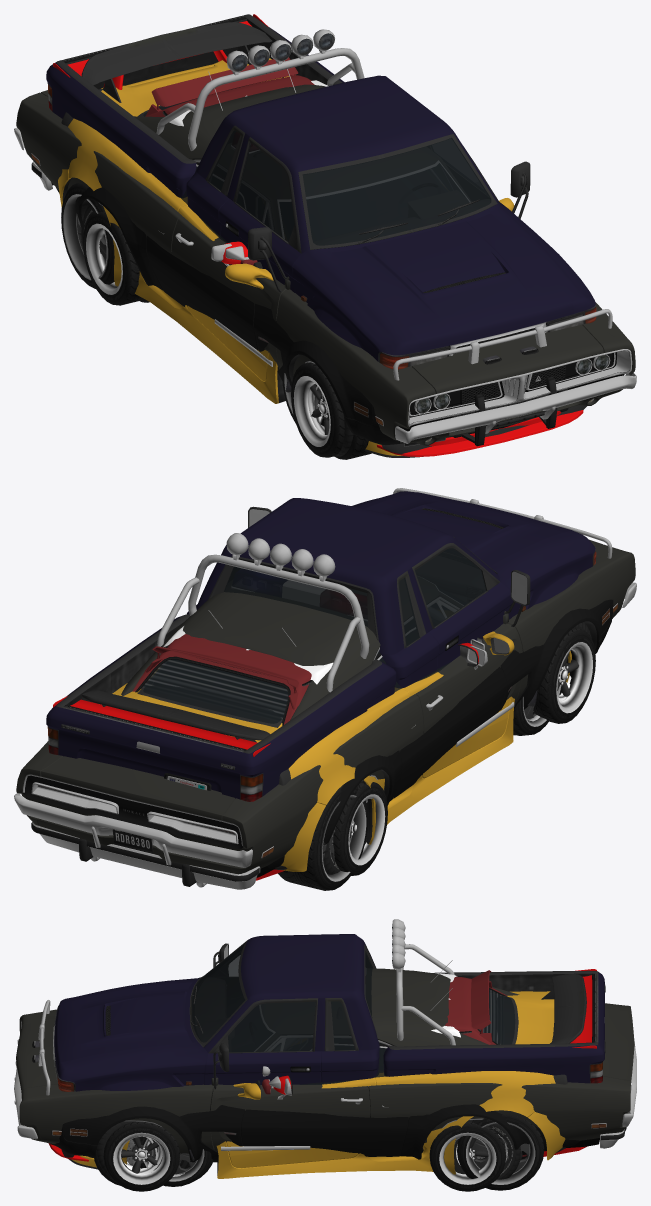
File: cars.glb
The picture shows the model from 3 angles, top to bottom: view 1: azimuth 30°, elevation 25°; view 2: azimuth 150°, elevation 25°; view 3: azimuth 270°, elevation 25°; orthographic projection. The views are drawn at different scales.
Parts seen in each view (by area): view 1: lightbody_body_3, duke_body_1, lightbody_body_4, lightbody_body_2, saba_body_3, phoenix_body_2, duke_body_3, duke_body_2, saba_body_4, asti_body_1, phoenix_wheel_fr, phoenix_wheel_br (+6 smaller); view 2: lightbody_body_3, duke_body_1, lightbody_body_4, saba_body_3, duke_body_3, phoenix_body_2, lightbody_body_2, asti_body_4, saba_body_2, cop_body_1, saba_body_4, asti_body_1 (+11 smaller); view 3: lightbody_body_3, duke_body_1, phoenix_body_2, saba_body_3, lightbody_body_4, lightbody_body_2, phoenix_wheel_fl, saba_body_4, phoenix_wheel_bl, saba_wheel_bl, asti_body_1, lightbody_body_5 (+11 smaller).
Part boxes in pixels (x1,y1,x2,y2): lightbody_body_3: [46, 27, 595, 361]; duke_body_1: [16, 77, 635, 445]; lightbody_body_4: [47, 14, 612, 392]; lightbody_body_2: [48, 84, 596, 369]; saba_body_3: [58, 58, 514, 455]; phoenix_body_2: [75, 162, 524, 445]; duke_body_3: [14, 128, 636, 443]; duke_body_2: [215, 164, 461, 240]; saba_body_4: [61, 22, 423, 457]; asti_body_1: [145, 57, 314, 265]; phoenix_wheel_fr: [291, 362, 344, 457]; phoenix_wheel_br: [83, 212, 144, 305]; lightbody_body_3: [46, 491, 595, 799]; duke_body_1: [16, 539, 635, 874]; lightbody_body_4: [47, 488, 612, 799]; saba_body_3: [112, 631, 571, 871]; duke_body_3: [14, 582, 636, 867]; phoenix_body_2: [267, 599, 613, 868]; lightbody_body_2: [47, 548, 596, 801]; asti_body_4: [141, 659, 288, 721]; saba_body_2: [143, 667, 287, 723]; cop_body_1: [31, 580, 367, 889]; saba_body_4: [81, 637, 568, 869]; asti_body_1: [132, 634, 311, 724]; lightbody_body_3: [54, 934, 604, 1091]; duke_body_1: [16, 968, 634, 1153]; phoenix_body_2: [50, 1043, 580, 1162]; saba_body_3: [71, 991, 565, 1178]; lightbody_body_4: [32, 919, 605, 1160]; lightbody_body_2: [54, 943, 602, 1091]; phoenix_wheel_fl: [103, 1121, 179, 1191]; saba_body_4: [68, 974, 586, 1175]; phoenix_wheel_bl: [429, 1120, 506, 1191]; saba_wheel_bl: [457, 1114, 544, 1190]; asti_body_1: [262, 970, 526, 1156]; lightbody_body_5: [193, 947, 370, 1051].
Size of the model in its own units: 2.18 by 1.92 by 5.24.
51 materials, 42 textured.
